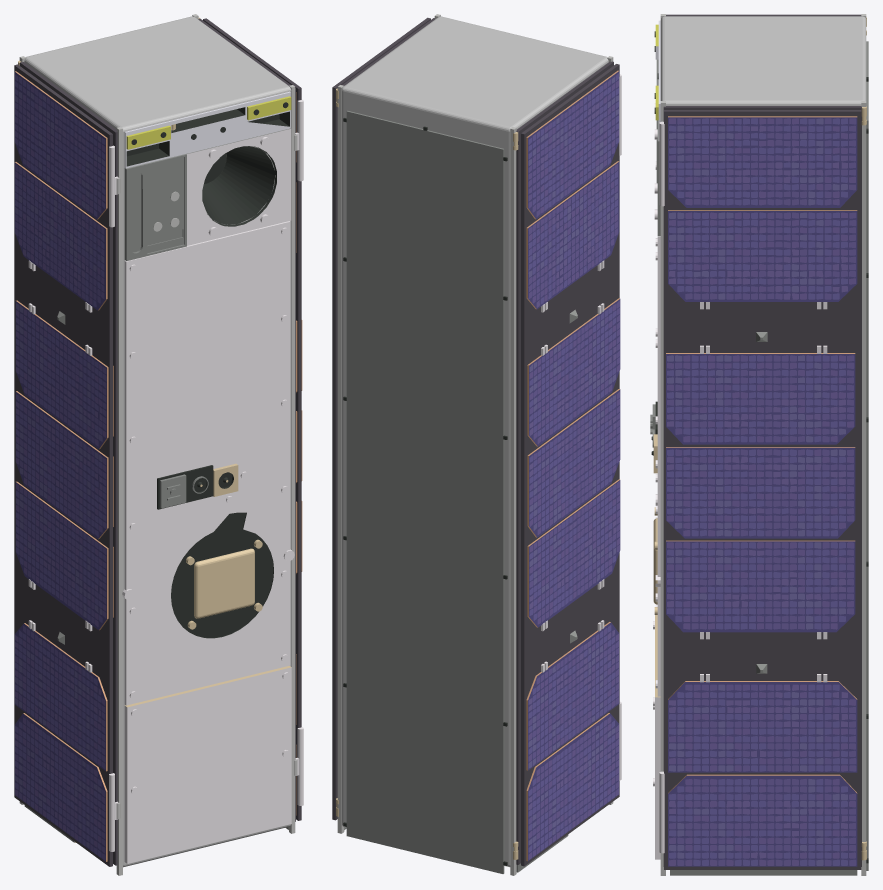
Rendered from icecube-web.glb.
3 views of the same model, side by side, from view 1: azimuth 30°, elevation 25°; view 2: azimuth 150°, elevation 25°; view 3: azimuth 270°, elevation 25° (orthographic). The views are drawn at different scales.
Visible parts, largest first — view 1: Layer_0; view 2: Layer_0; view 3: Layer_0.
Part boxes in pixels (bbox=[...]): Layer_0: bbox=[14, 14, 303, 875]; Layer_0: bbox=[332, 14, 621, 875]; Layer_0: bbox=[650, 14, 868, 875].
Bounding box in the file's own units: 2.34 × 8.29 × 2.12.
3 materials, 3 textured.
